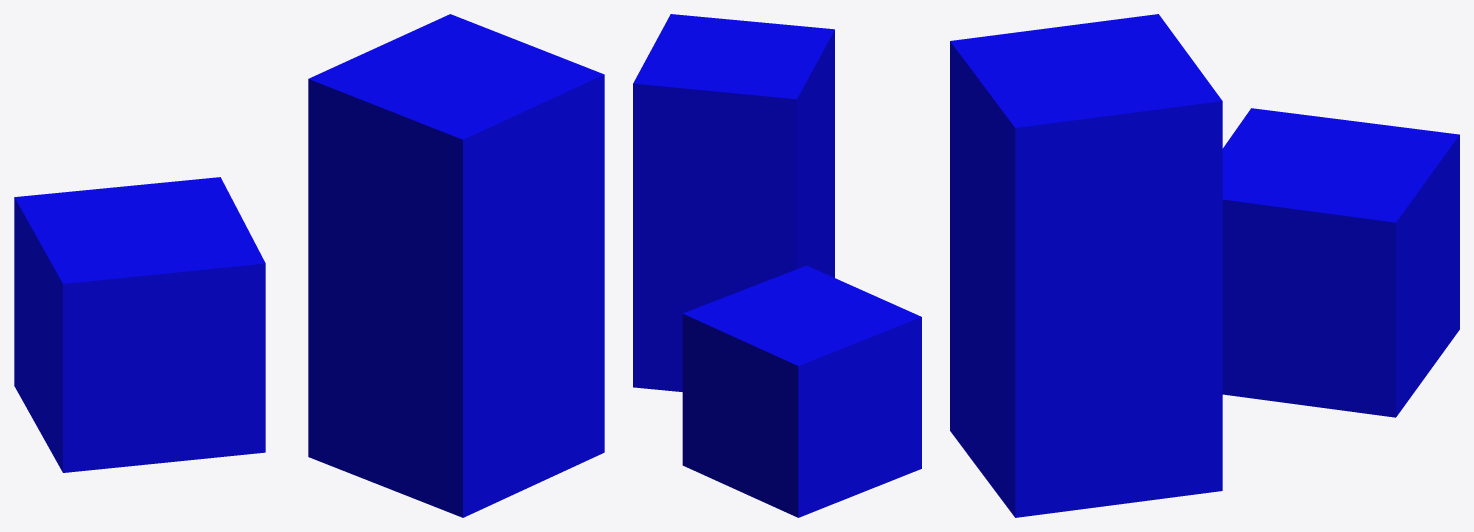
Rendered from cornell_box - copia.obj.
3 views of the same model, side by side, from view 1: azimuth 30°, elevation 25°; view 2: azimuth 150°, elevation 25°; view 3: azimuth 270°, elevation 25° (orthographic). The views are drawn at different scales.
Parts seen in each view (by area): view 1: tall_block, short_block; view 2: tall_block, short_block; view 3: tall_block, short_block.
Boxes of the visible parts, x1,y1,x2,y2 form: tall_block: [308, 14, 604, 517]; short_block: [14, 177, 265, 472]; tall_block: [633, 14, 834, 391]; short_block: [682, 265, 921, 517]; tall_block: [950, 14, 1222, 517]; short_block: [1222, 108, 1459, 417].
Bounding box in the file's own units: 390 × 330 × 391.
